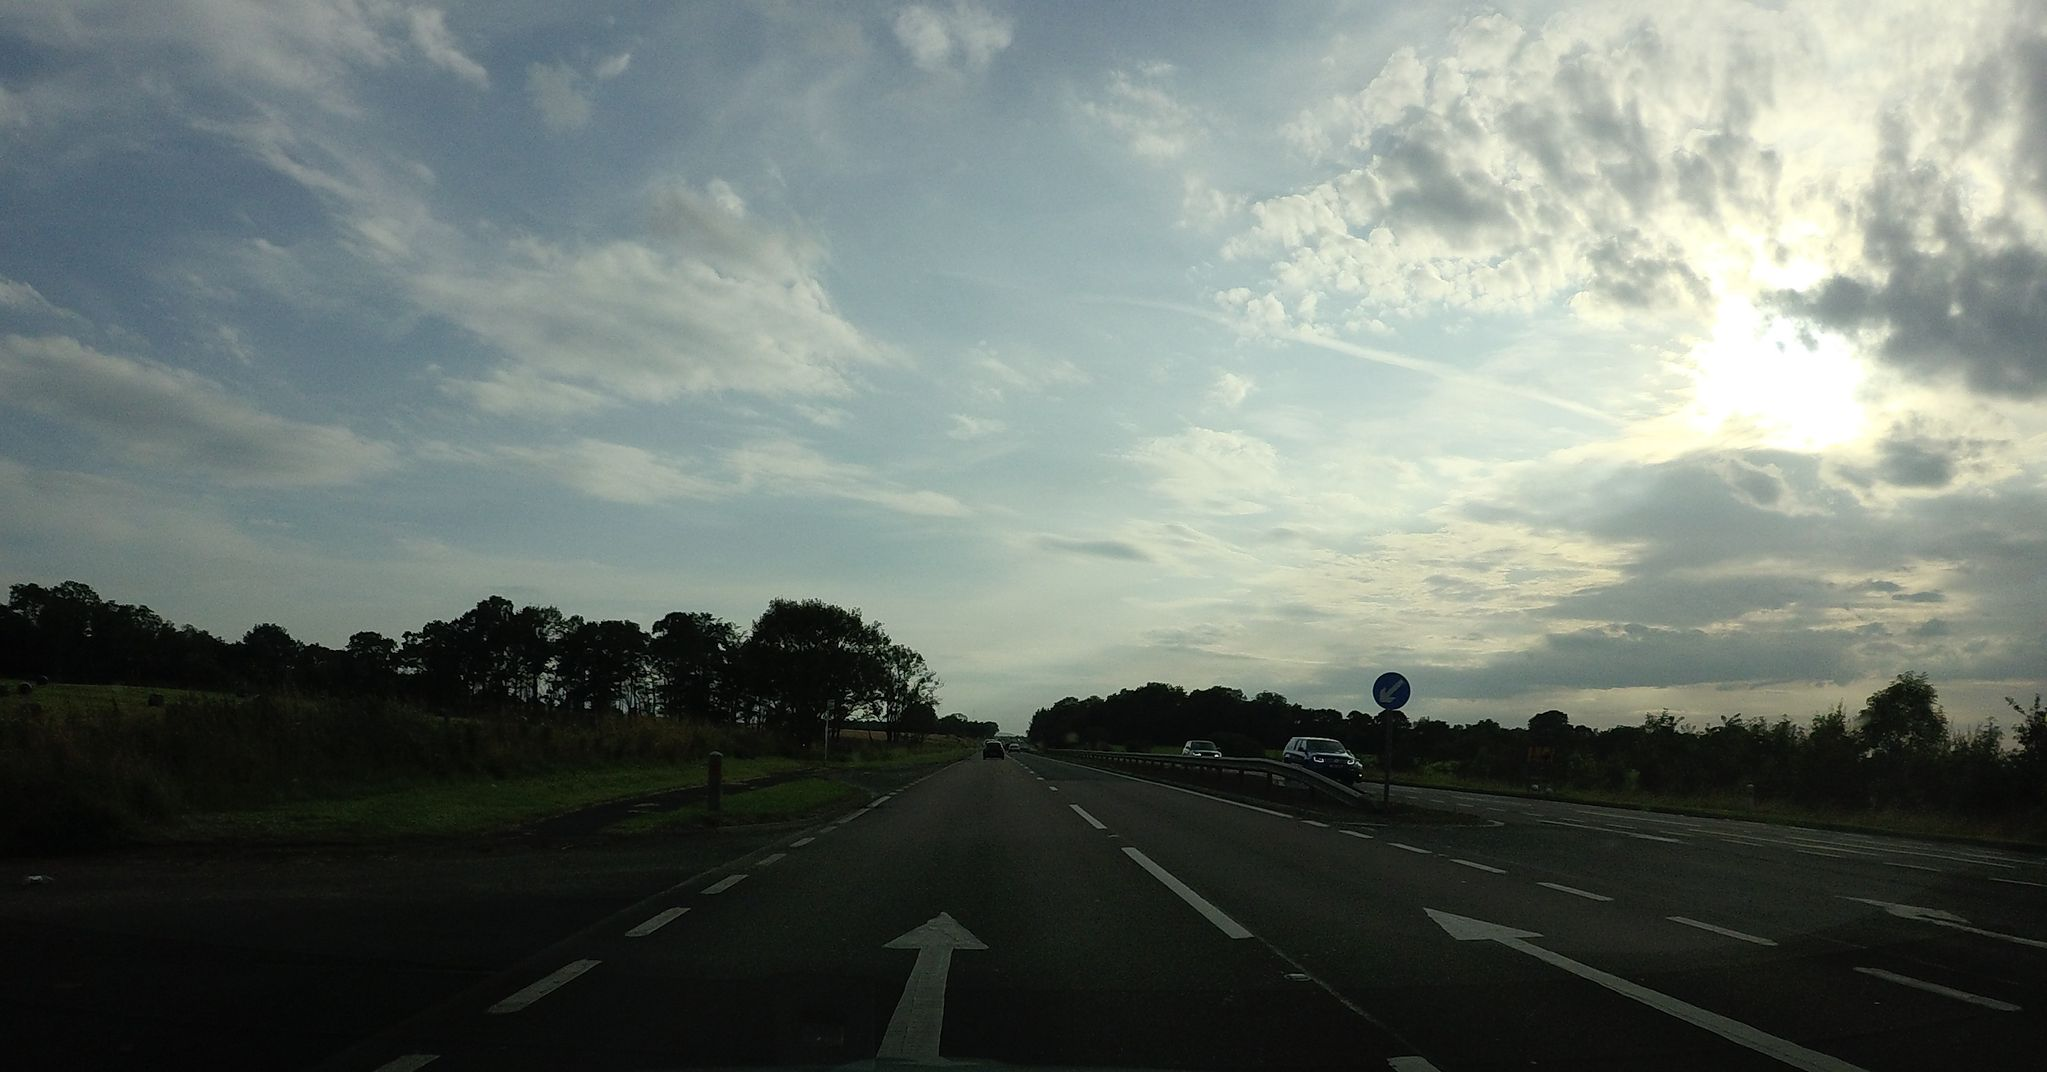car: (1281, 735, 1363, 785), (1181, 739, 1223, 757), (982, 740, 1005, 759)
